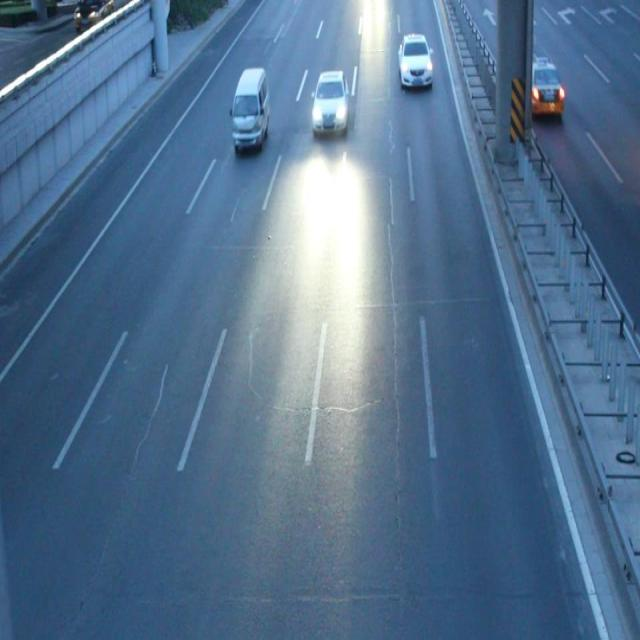car: (230, 67, 269, 148), (311, 71, 348, 133), (397, 35, 433, 88)
